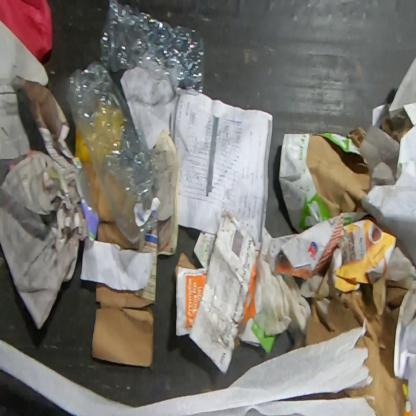cardboard: (290, 275, 410, 415), (278, 126, 372, 234), (90, 223, 158, 368), (173, 252, 197, 277)
soft_plastic: (66, 60, 162, 246), (99, 0, 206, 96)
